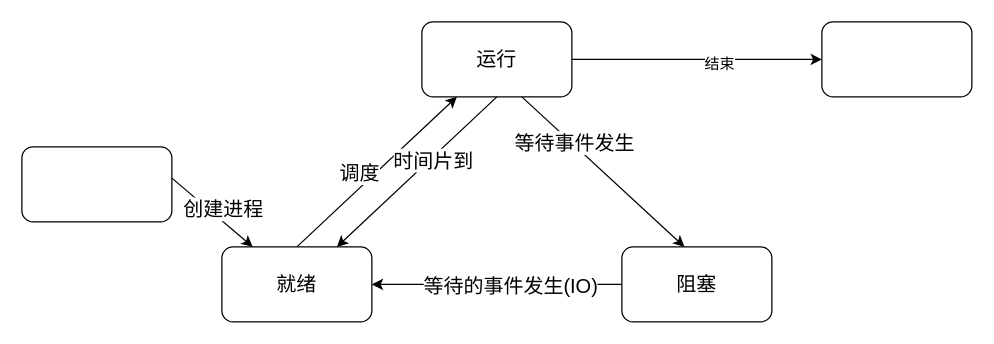
Some shapes in this 994 by 344 pixel diagram are drawn without their labels. The shapes that lost their labels are listed below. From the top down, each one's box as (x1, y1, x2, y2) in pixels, then its label:
(821, 21, 972, 97): 终止
(21, 146, 172, 222): 新建
